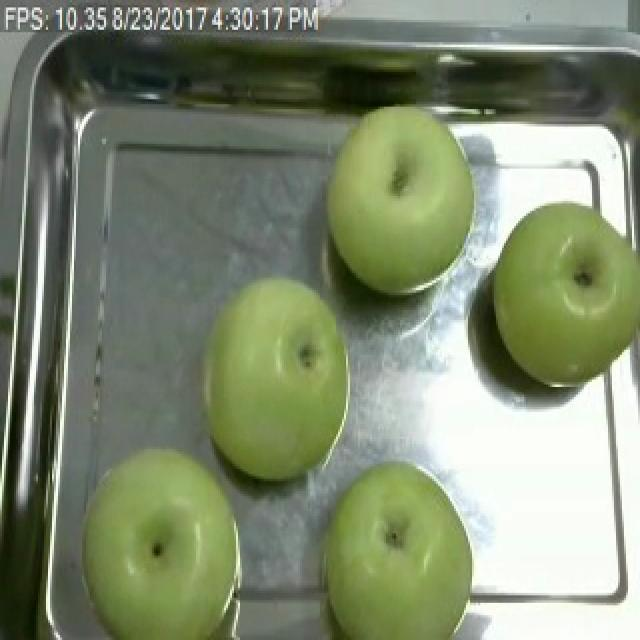50-_ripeness: (199, 258, 353, 490), (490, 184, 640, 416), (316, 436, 484, 640), (327, 90, 472, 320), (84, 448, 251, 640)
